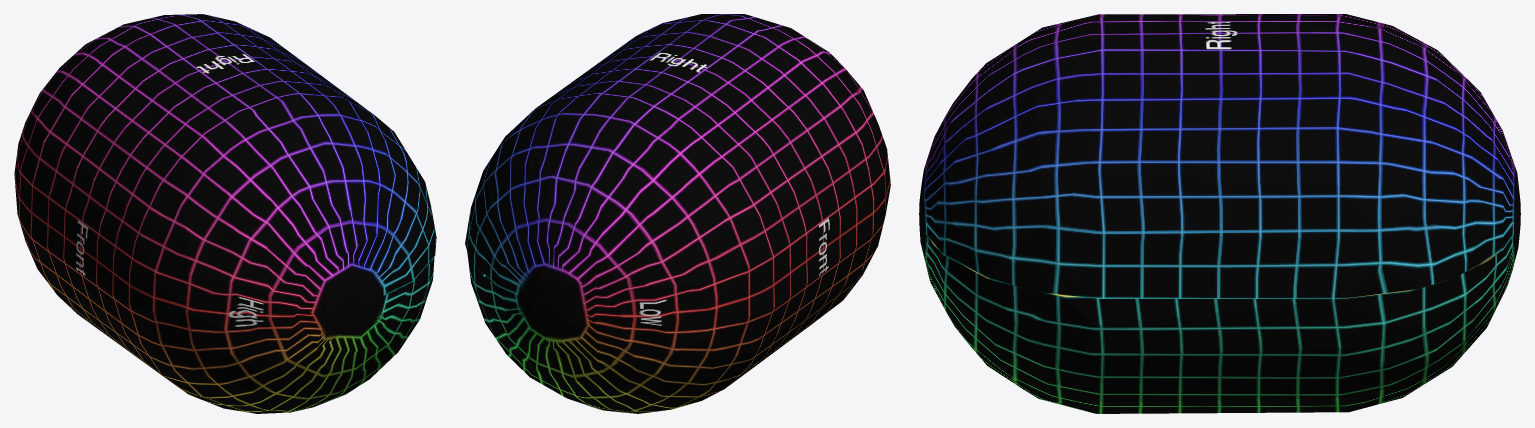
File: lowPolyCapsule.obj
3 renders of one model, left to right at view 1: azimuth 30°, elevation 25°; view 2: azimuth 150°, elevation 25°; view 3: azimuth 270°, elevation 25°, orthographic. The views are drawn at different scales.
Visible parts, largest first — view 1: capsule; view 2: capsule; view 3: capsule.
Part boxes in pixels (x1,y1,x2,y2): capsule: (14,14,436,413); capsule: (465,14,890,413); capsule: (919,14,1520,413).
Size of the model in its own units: 1.99 by 2 by 3.
Materials: 1 (1 with a texture image).
